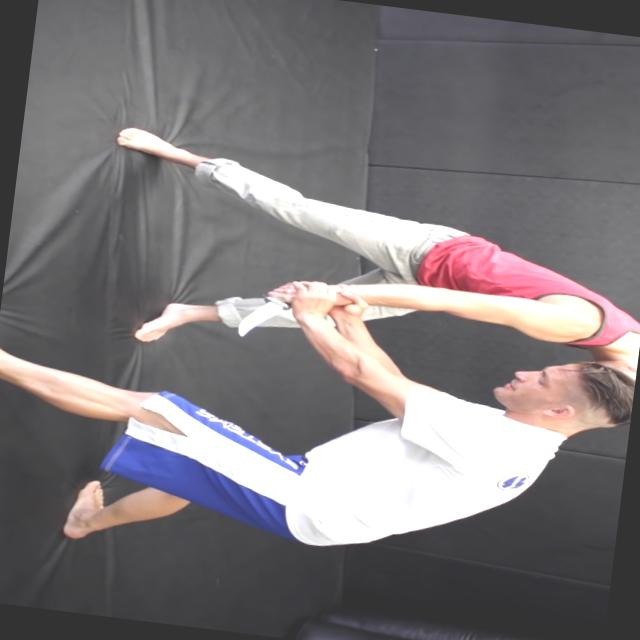knife: (228, 270, 304, 348)
